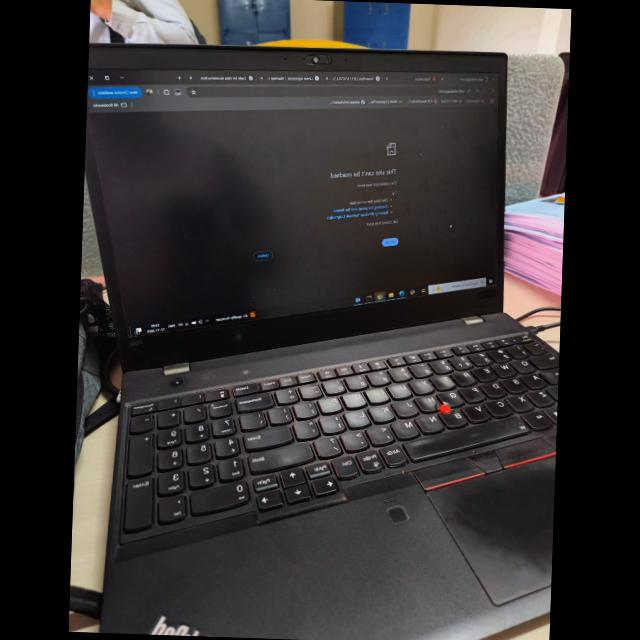laptop: (68, 27, 571, 640)
